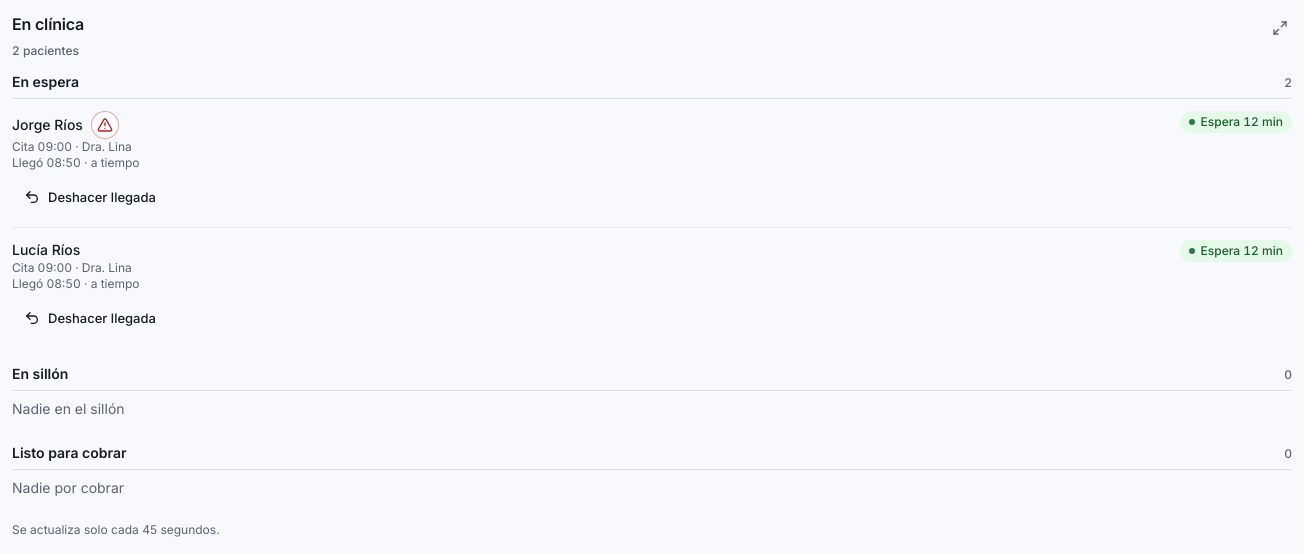
Test case: InClinicPanel: alertas médicas (DX-247) › muestra la misma alerta que la agenda junto al paciente; sin alertas, nada
This screenshot has width=1304, height=554.
Click the button named "Alertas médicas de Jorge Ríos".
click(105, 125)  # box [91,111,119,139]
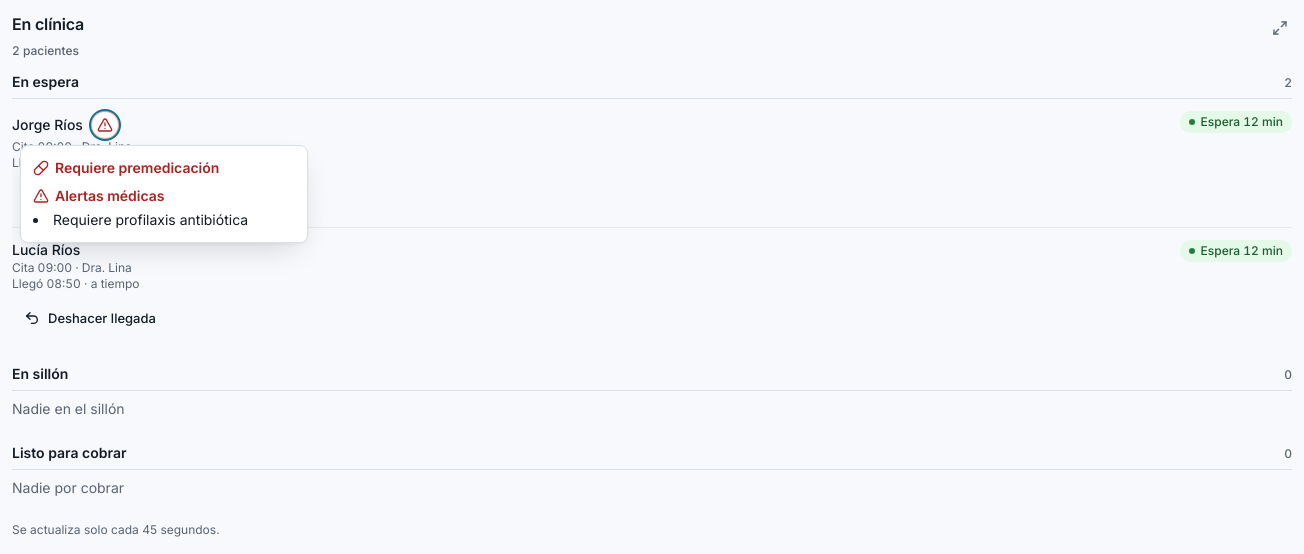
Now the element with test id "medical-alert-popover" shows "Requiere premedicación", box [55,159,219,176]
Now the element with test id "medical-alert-popover" shows "Requiere profilaxis antibiótica", box [53,211,248,228]
